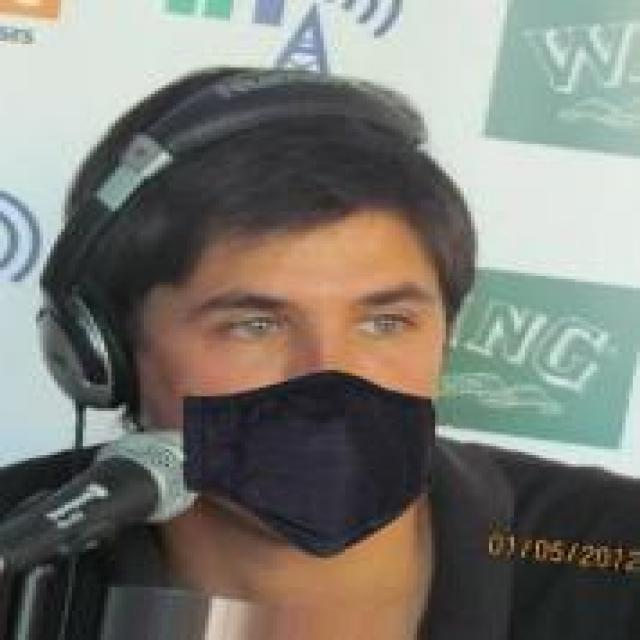mask: (90, 85, 528, 552)
